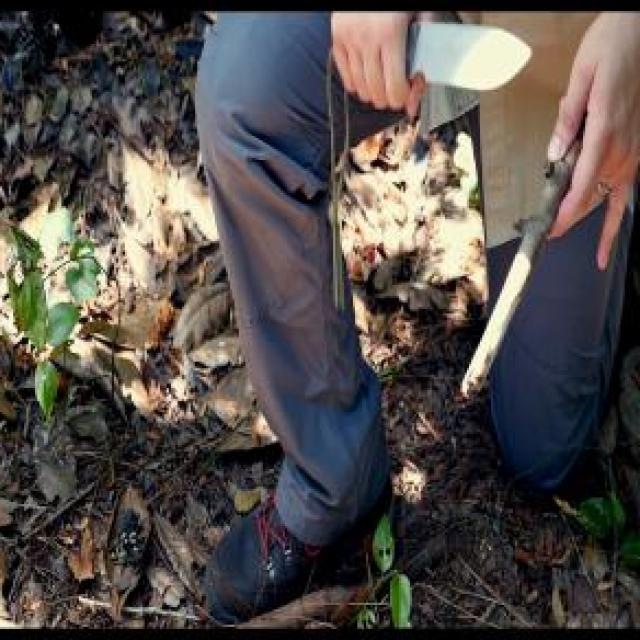knife: (329, 13, 535, 120)
